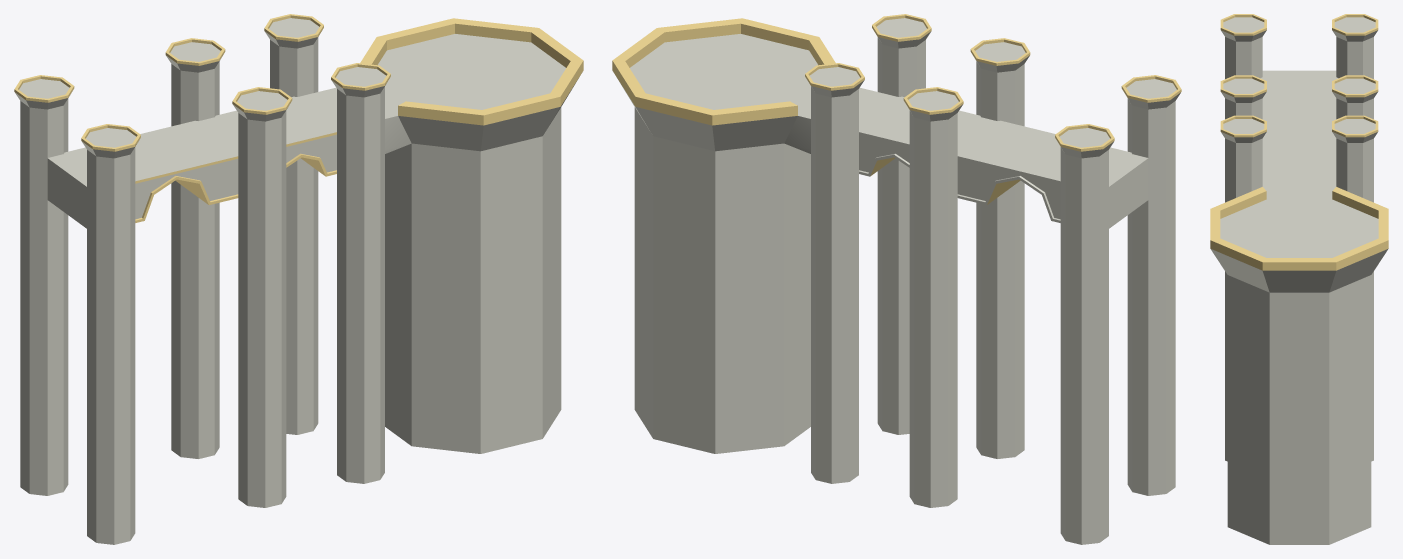
Rendered from Castle_Walkway_Bridge_Pillars_01.fbx.
3 views of the same model, side by side, from view 1: azimuth 30°, elevation 25°; view 2: azimuth 150°, elevation 25°; view 3: azimuth 270°, elevation 25° (orthographic). The views are drawn at different scales.
Parts seen in each view (by area): view 1: Castle_Walkway_Bridge_Pillars_01; view 2: Castle_Walkway_Bridge_Pillars_01; view 3: Castle_Walkway_Bridge_Pillars_01.
Part boxes in pixels (left/top/right/bottom): Castle_Walkway_Bridge_Pillars_01: left=14, top=14, right=583, bottom=544; Castle_Walkway_Bridge_Pillars_01: left=612, top=14, right=1181, bottom=544; Castle_Walkway_Bridge_Pillars_01: left=1210, top=14, right=1388, bottom=544.
Bounding box in the file's own units: 399 × 299 × 146.
